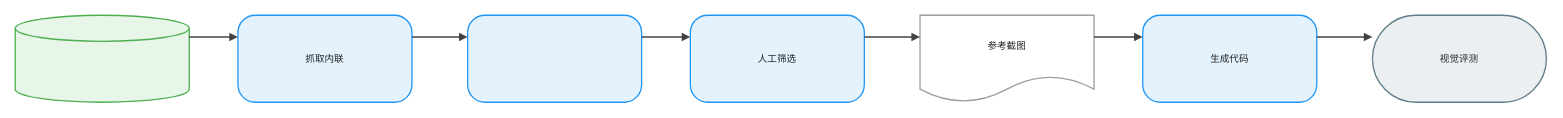
The diagram is 1563 pixels wide and 118 high, and some of its shapes have lost their labels. Here are the shapes that lost their labels. From the top down, the centre of each, then its label:
the point at 101,58: C4网页链接
the point at 554,58: 自动过滤
